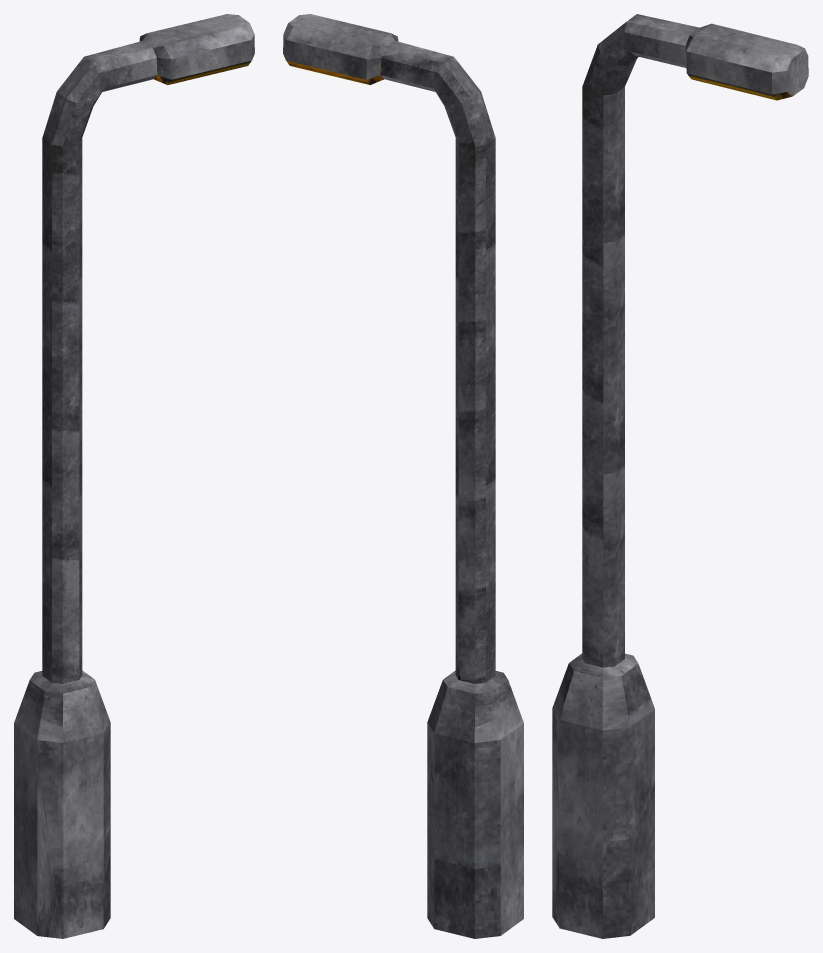
File: Poste de luz.fbx
3 renders of one model, left to right at view 1: azimuth 30°, elevation 25°; view 2: azimuth 150°, elevation 25°; view 3: azimuth 330°, elevation 25°, orthographic. The views are drawn at different scales.
Parts seen in each view (by area): view 1: Cube; view 2: Cube; view 3: Cube.
Part boxes in pixels (x1=…): Cube: x1=14, y1=14, x2=254, y2=938; Cube: x1=283, y1=14, x2=523, y2=938; Cube: x1=552, y1=14, x2=808, y2=938.
Bounding box in the file's own units: 180 × 670 × 60.
